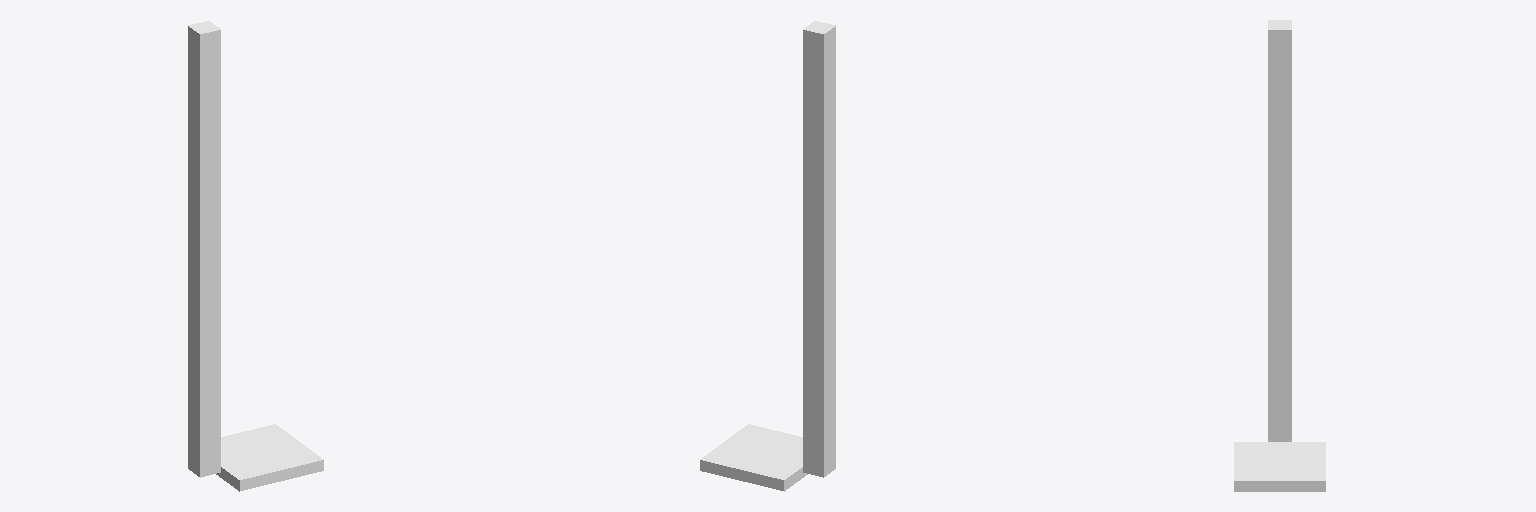
URDF robot description (paddle):
<?xml version="1.0" ?>
<robot name="paddle" xmlns:xacro="http://www.ros.org/wiki/xacro">
  <link name="base">
    <inertial>
      <origin rpy="0 0 0" xyz="0 0 0"/>
       <mass value="0"/>
       <inertia ixx="0" ixy="0" ixz="0" iyy="0" iyz="0" izz="0"/>
    </inertial>
    <visual>
      <origin rpy="0 0 0" xyz="0 0 .5"/>
      <geometry>
        <box size=".05 .05 1"/>
      </geometry>
      <material name="white">
        <color rgba="1 1 1 1"/>
      </material>
    </visual>
  </link>
  <joint name="paddle_height" type="prismatic">
    <parent link="base"/>
    <child link="wrist"/>
    <origin rpy="0 0 0" xyz=".025 0 0"/>
    <axis xyz="0 0 1"/>
    <limit effort="1e9" lower="0." upper="1.0" velocity="1e9"/>
  </joint>
  <link name="wrist">
    <inertial>
      <origin rpy="0 0 0" xyz="0 0 0"/>
       <mass value="0"/>
       <inertia ixx="0" ixy="0" ixz="0" iyy="0" iyz="0" izz="0"/>
    </inertial>
  </link>
  <joint name="paddle_angle" type="revolute">
    <parent link="wrist"/>
    <child link="paddle"/>
    <origin rpy="0 0 0" xyz="0 0 0"/>
    <axis xyz="-1 0 0"/>
    <limit effort="1e9" lower="-3.14" upper="3.14" velocity="1e9"/>
  </joint>  
  <link name="paddle">
    <contact>
      <restitution value=".9" />
      <rolling_friction value="1000."/>
      <spinning_friction value="1000."/>
  	</contact>
    <inertial>
      <origin rpy="0 0 0" xyz=".1 0 0"/>
       <mass value="100"/>
       <inertia ixx="10" ixy="0" ixz="0" iyy="10" iyz="0" izz="10"/>
    </inertial>
    <visual>
      <origin rpy="0 0 0" xyz=".1 0 0"/>
      <geometry>
        <box size=".2 .2 .025"/>
      </geometry>
      <material name="white"/>
    </visual>
    <collision>
      <origin rpy="0 0 0" xyz=".1 0 0"/>
      <geometry>
        <box size=".2 .2 .025"/>
      </geometry>
      <material name="white"/>
    </collision>
  </link>
</robot>

--- Render facts (derived) ---
3 views of the same robot in one strip: view 1: azimuth 30°, elevation 25°; view 2: azimuth 150°, elevation 25°; view 3: azimuth 270°, elevation 25° (orthographic).
Robot: paddle — 3 links, 2 joints (1 revolute, 1 prismatic); root link base; default pose: every joint at zero.
Visible links, largest first — view 1: base, paddle; view 2: base, paddle; view 3: base, paddle.
Boxes of the visible links, x1,y1,x2,y2 form: base: (188,21,220,477); paddle: (216,424,323,491); base: (803,21,835,477); paddle: (700,424,807,491); base: (1268,20,1291,441); paddle: (1234,442,1325,491).
Size in the robot's own frame: 0.25 by 0.2 by 1.01 metres.
Geometry: primitives only (box / cylinder / sphere), no mesh files.